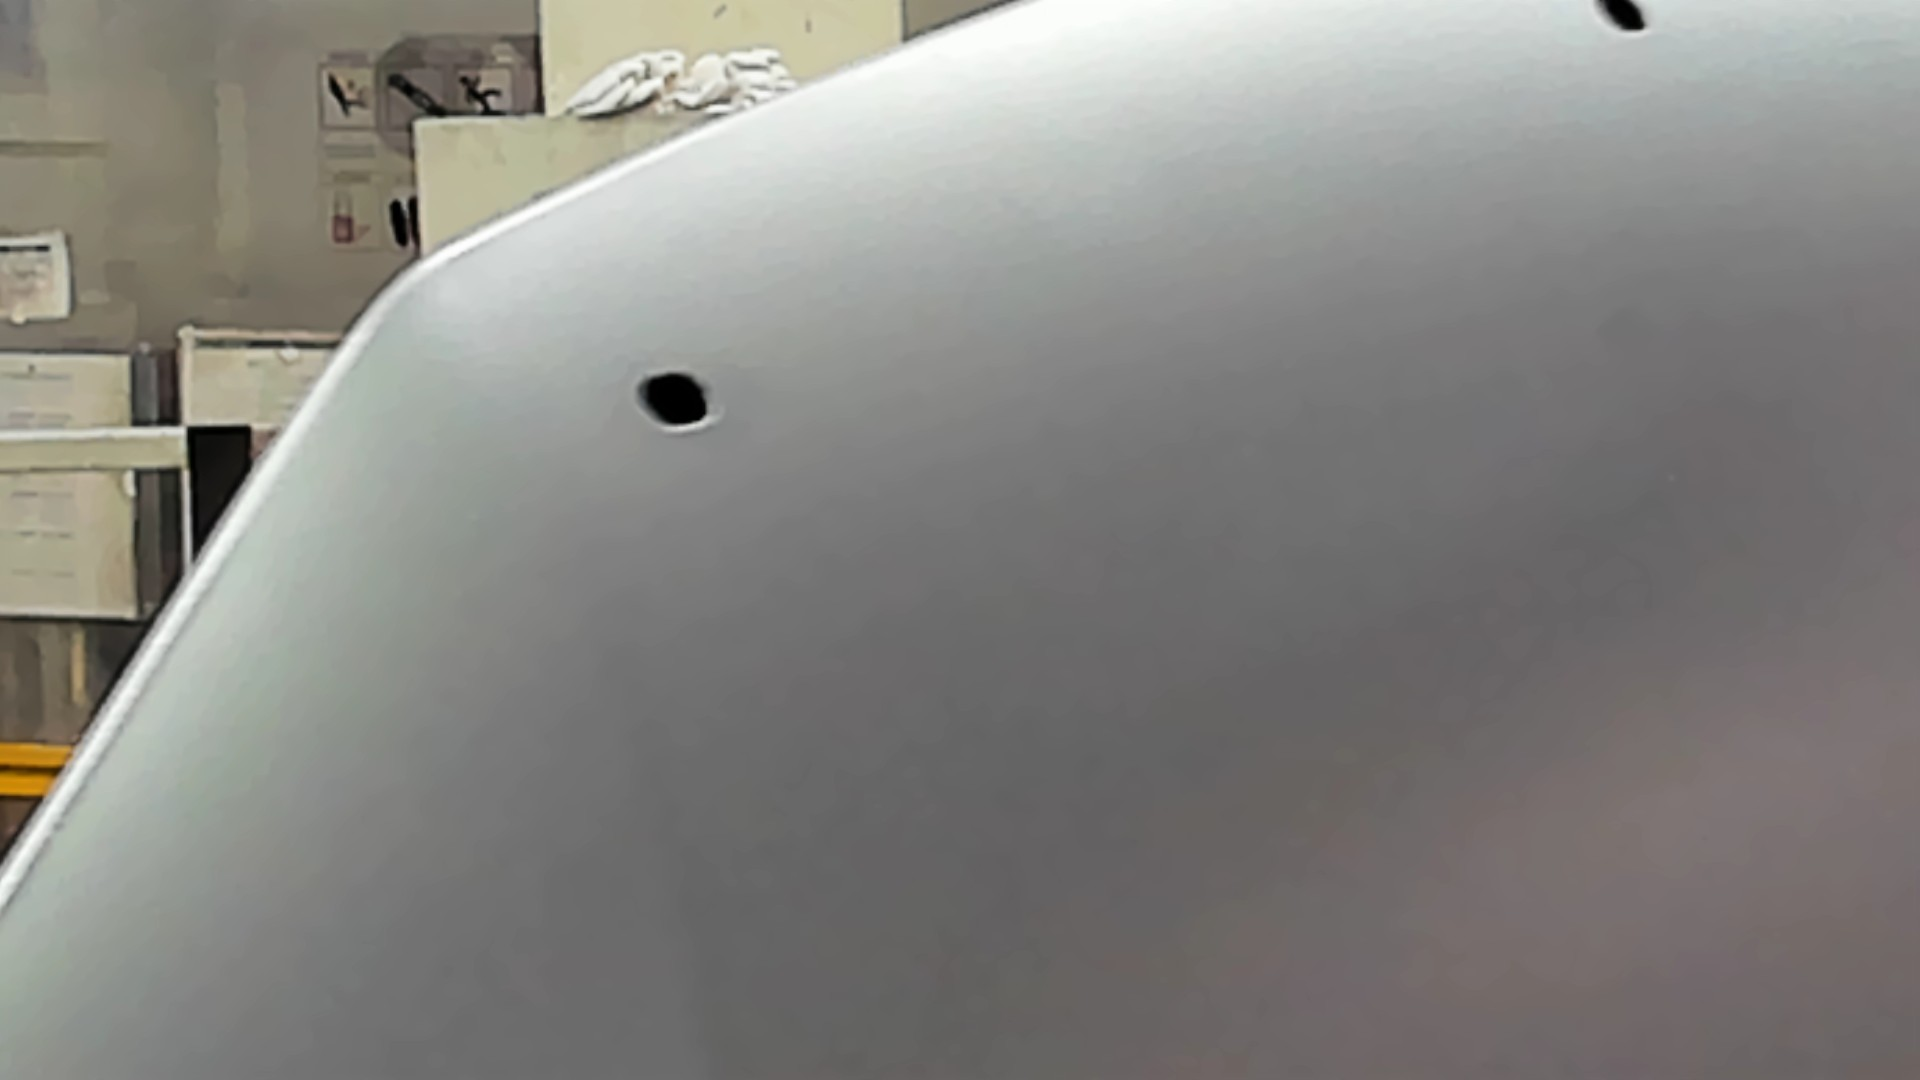amorfo: (624, 365, 731, 438), (1582, 1, 1662, 38)
capo: (872, 105, 1920, 1080)
